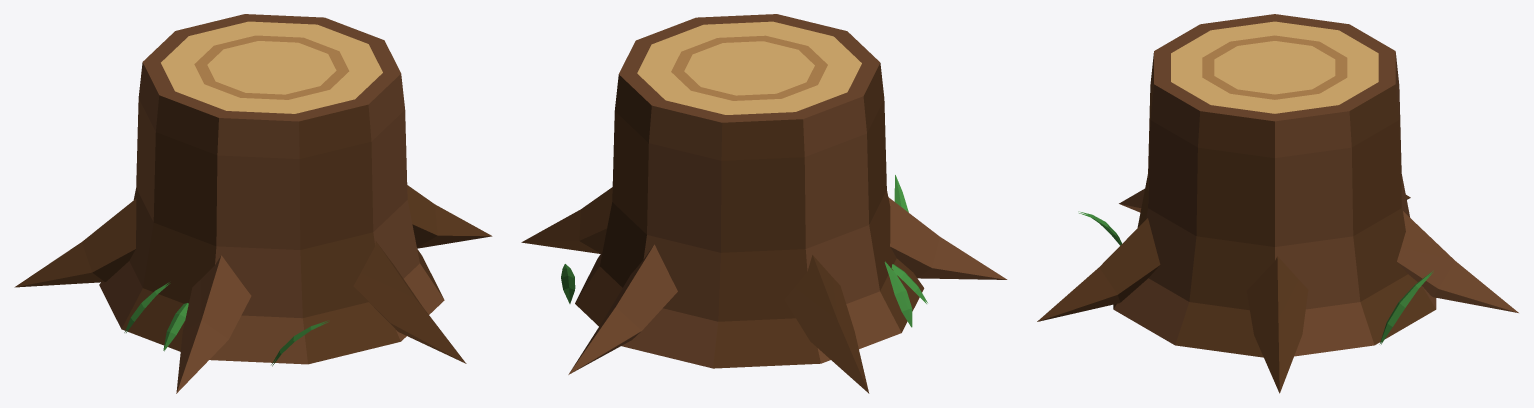
The model's file is Prop_TreeStump.fbx.
The picture shows the model from 3 angles, left to right: view 1: azimuth 30°, elevation 25°; view 2: azimuth 150°, elevation 25°; view 3: azimuth 270°, elevation 25°; orthographic projection. The views are drawn at different scales.
Visible parts, largest first — view 1: Prop_TreeStump; view 2: Prop_TreeStump; view 3: Prop_TreeStump.
Part boxes in pixels (box(x1,y1,x2,y2)): Prop_TreeStump: box(14, 14, 492, 393); Prop_TreeStump: box(521, 14, 1007, 393); Prop_TreeStump: box(1037, 14, 1518, 393).
Size of the model in its own units: 0.9574 by 0.5 by 0.996.
